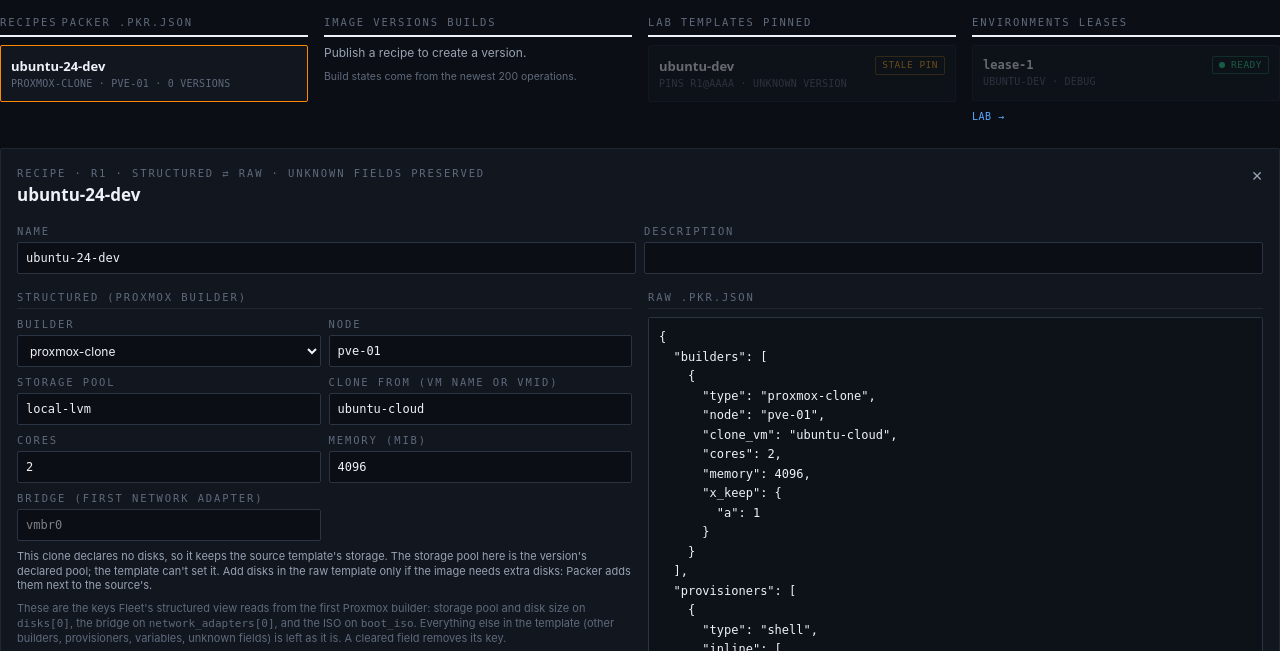
Test: e2e: edit → publish → build → promote › treats a disk-less clone's storage pool as draft metadata only
Expected: the text with test id "pool-inherited" shows "keeps the source template's storage", 17,549 -> 631,592
Clear the field with test id "field-pool" at (169, 409), box 17,393 -> 320,425
(page scrolled)
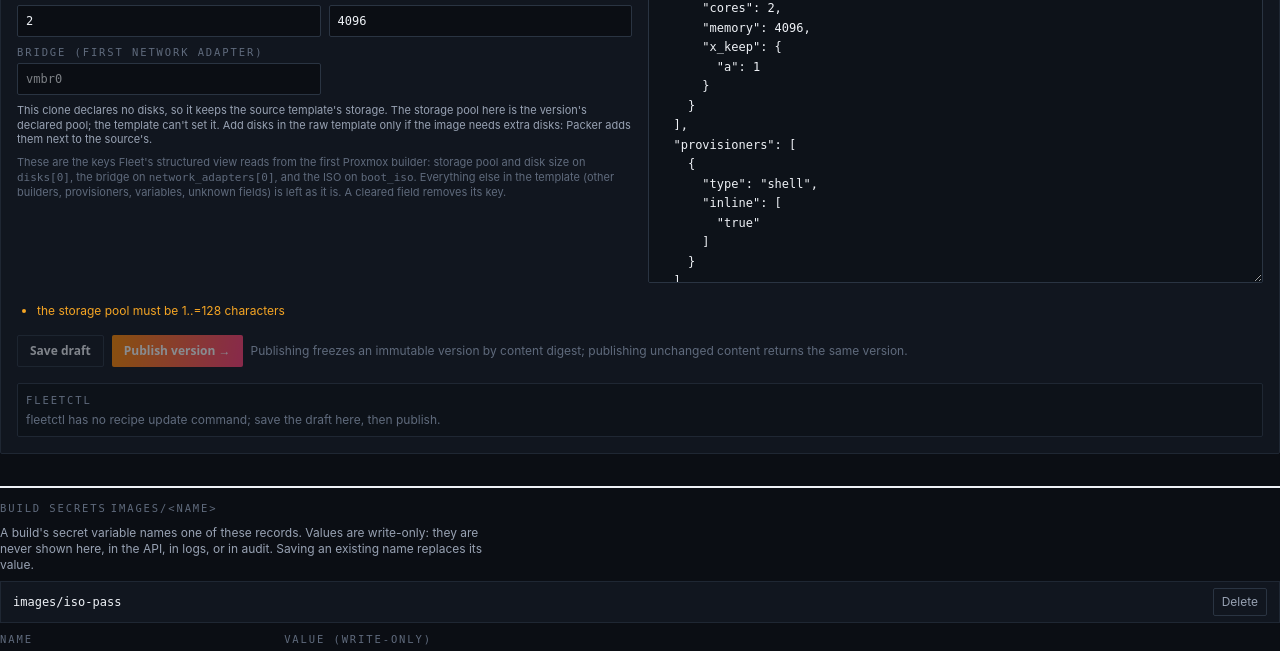
Expected: the list with test id "recipe-errors" shows "storage pool", 37,303 -> 285,318
